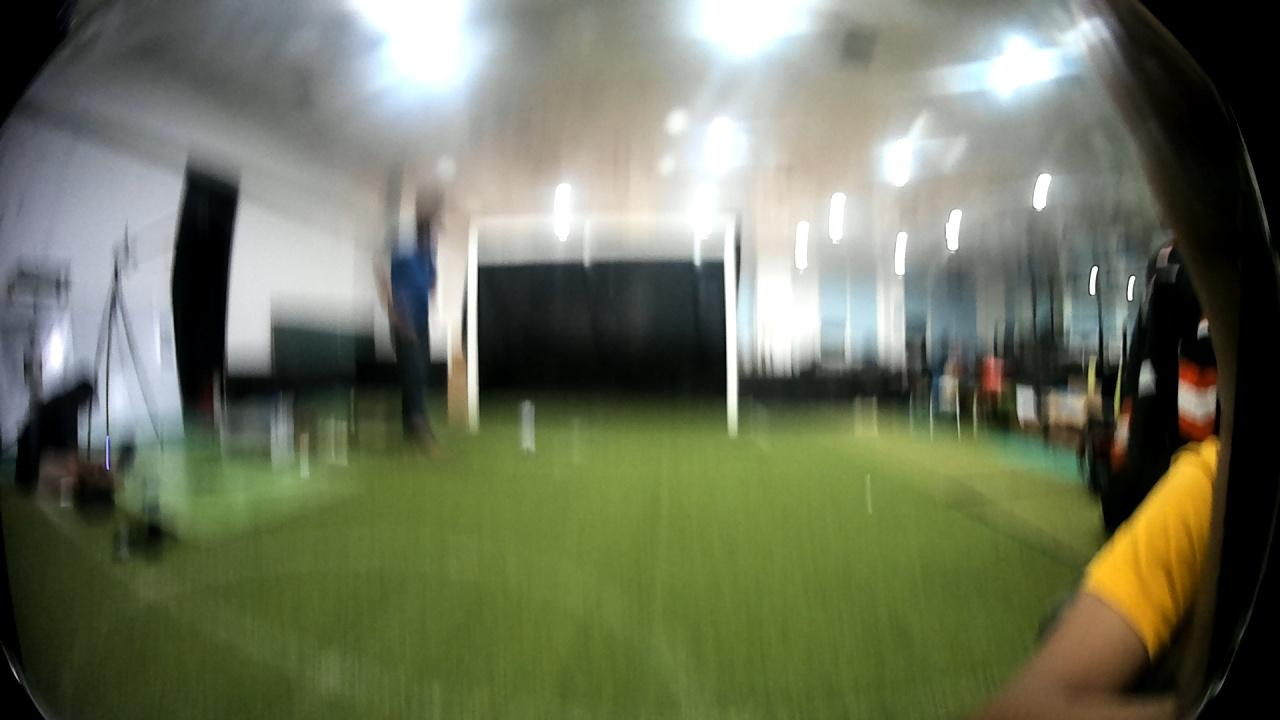ball: (519, 395, 541, 455)
